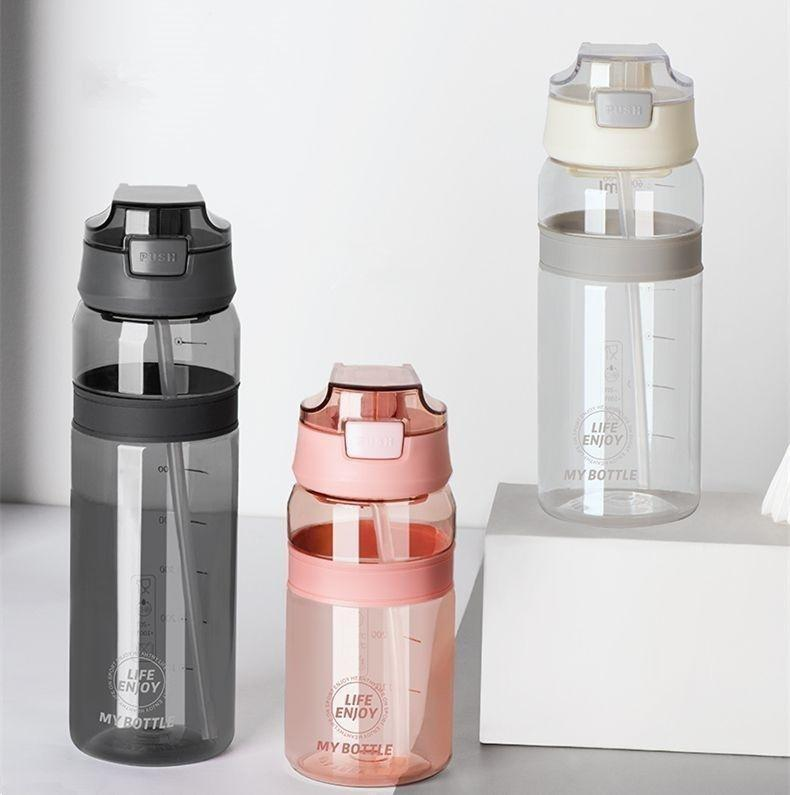gym bottle: (68, 180, 238, 768), (536, 40, 703, 530), (281, 363, 461, 789)
